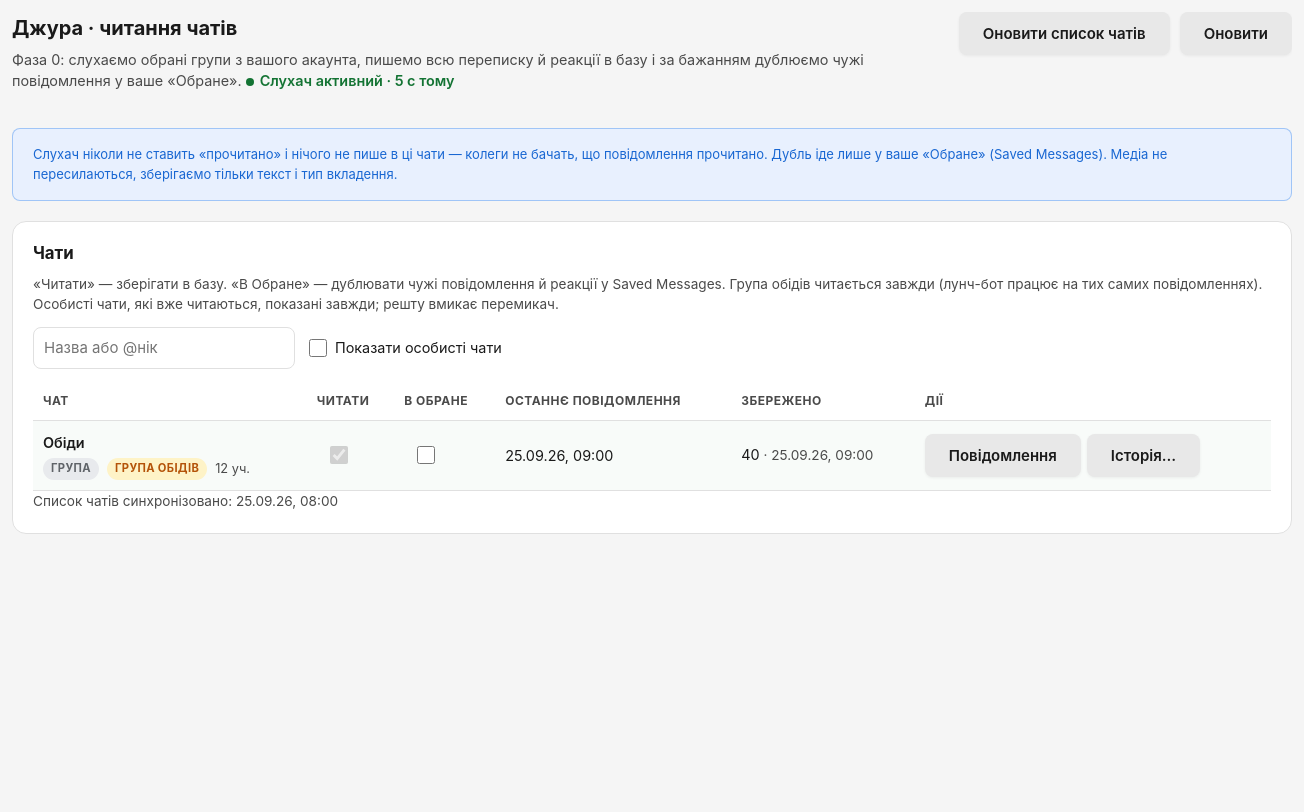
Scenario: DzhuraTab › оновлення списку чатів: задача sync_dialogs → перезавантаження списку
Expected: the text "Обіди" is shown, [43,434,85,451]
Expected: the text "Admin" is not shown
Click the button "Оновити список чатів": point(1064, 34) [959,12,1170,55]
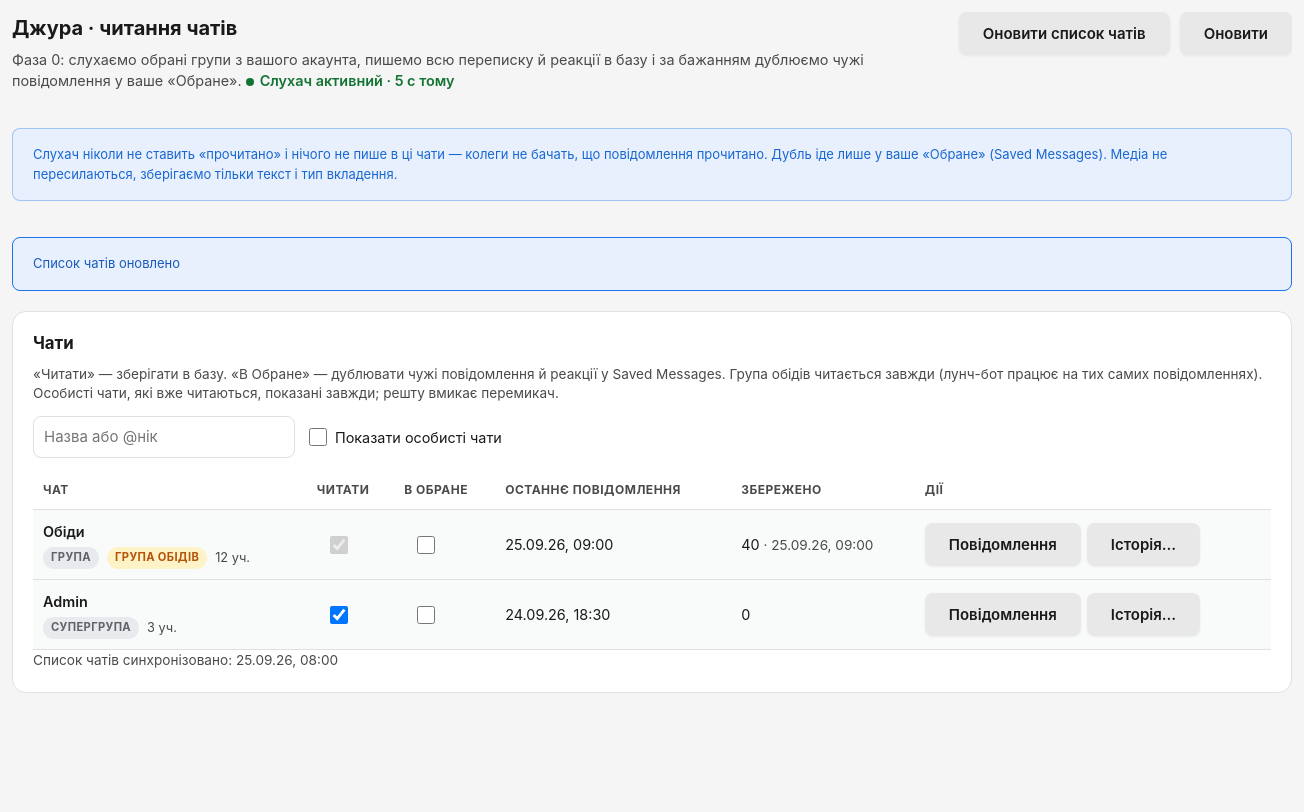
Expected: the text "Список чатів оновлено" is shown, [12,237,1292,291]
Expected: the text "Admin" is shown, [43,593,88,610]
